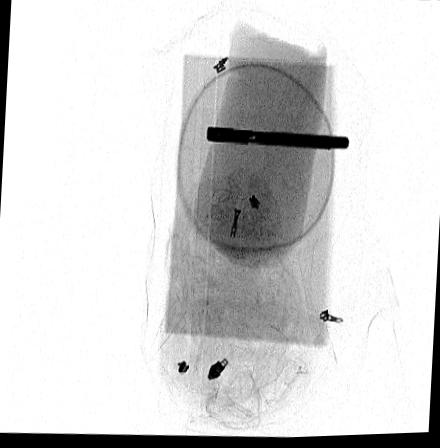Pliers: (204, 128, 352, 154)
